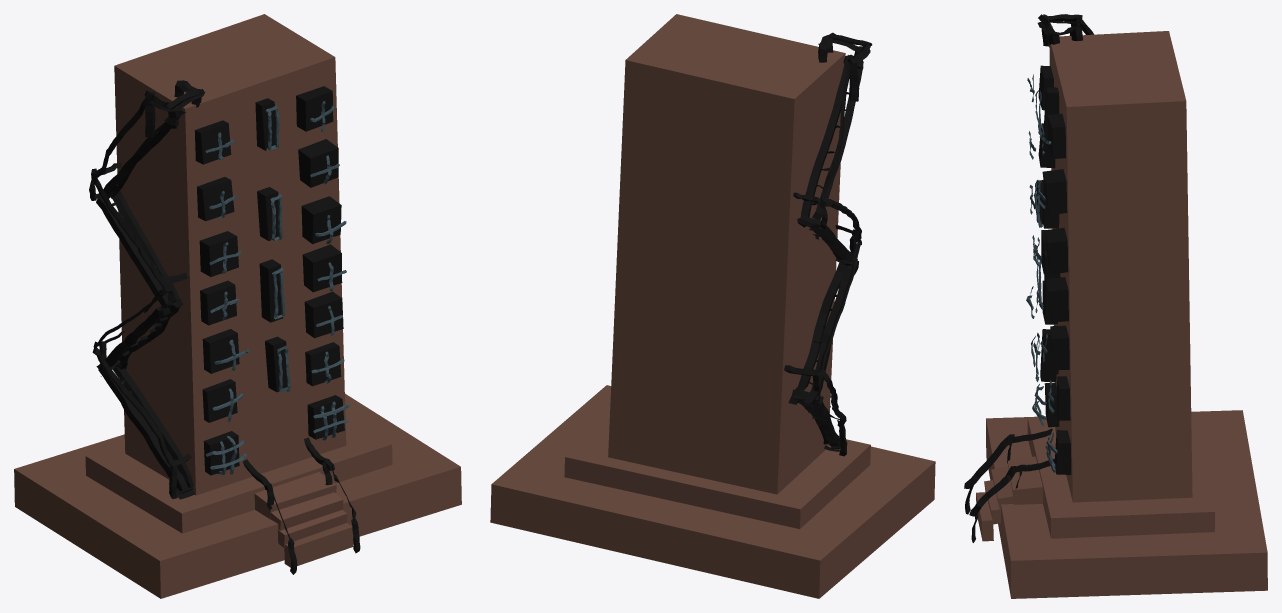
The picture shows the model from 3 angles, left to right: view 1: azimuth 30°, elevation 25°; view 2: azimuth 150°, elevation 25°; view 3: azimuth 270°, elevation 25°; orthographic projection. The views are drawn at different scales.
Parts seen in each view (by area): view 1: node_MeshObject-2097029120-PolyPaper20, node_MeshObject-1524950016-PolyPaper17; view 2: node_MeshObject-2097029120-PolyPaper20, node_MeshObject-1524950016-PolyPaper17; view 3: node_MeshObject-2097029120-PolyPaper20, node_MeshObject-1524950016-PolyPaper17.
Part boxes in pixels (x1,y1,x2,y2): node_MeshObject-2097029120-PolyPaper20: (85, 14, 392, 567); node_MeshObject-1524950016-PolyPaper17: (14, 105, 461, 598); node_MeshObject-2097029120-PolyPaper20: (564, 14, 872, 528); node_MeshObject-1524950016-PolyPaper17: (490, 385, 935, 598); node_MeshObject-2097029120-PolyPaper20: (976, 14, 1214, 541); node_MeshObject-1524950016-PolyPaper17: (964, 90, 1267, 598).
Size of the model in its own units: 0.9954 by 1.35 by 0.8039.
